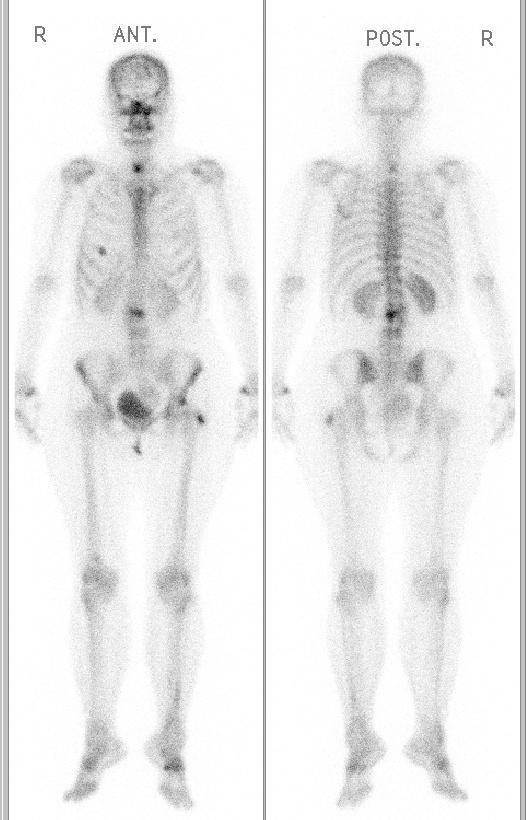person: (10, 1, 520, 820)
